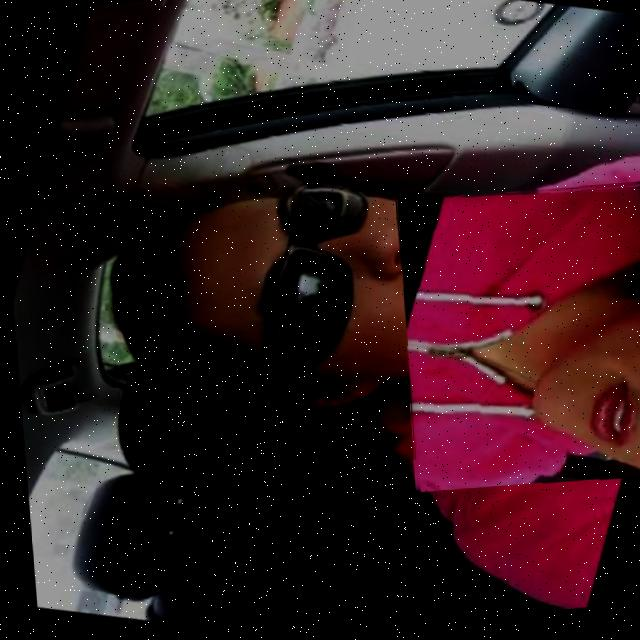no-seatbelt: (389, 183, 640, 495)
